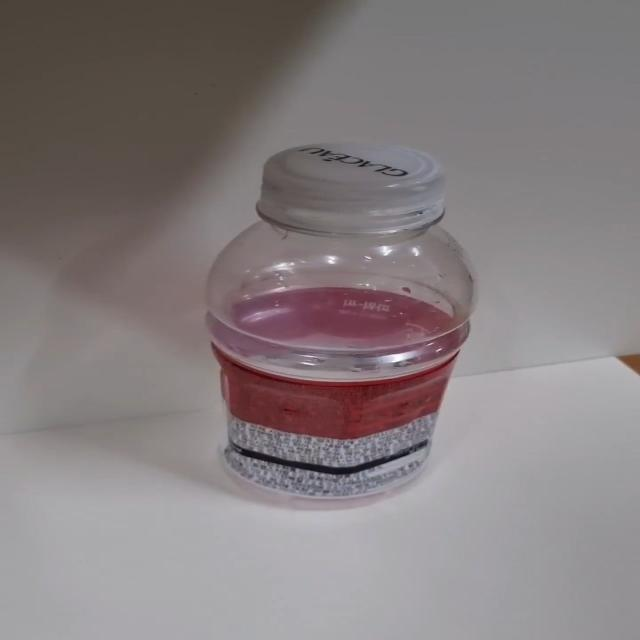Plastic: (204, 142, 477, 512)
